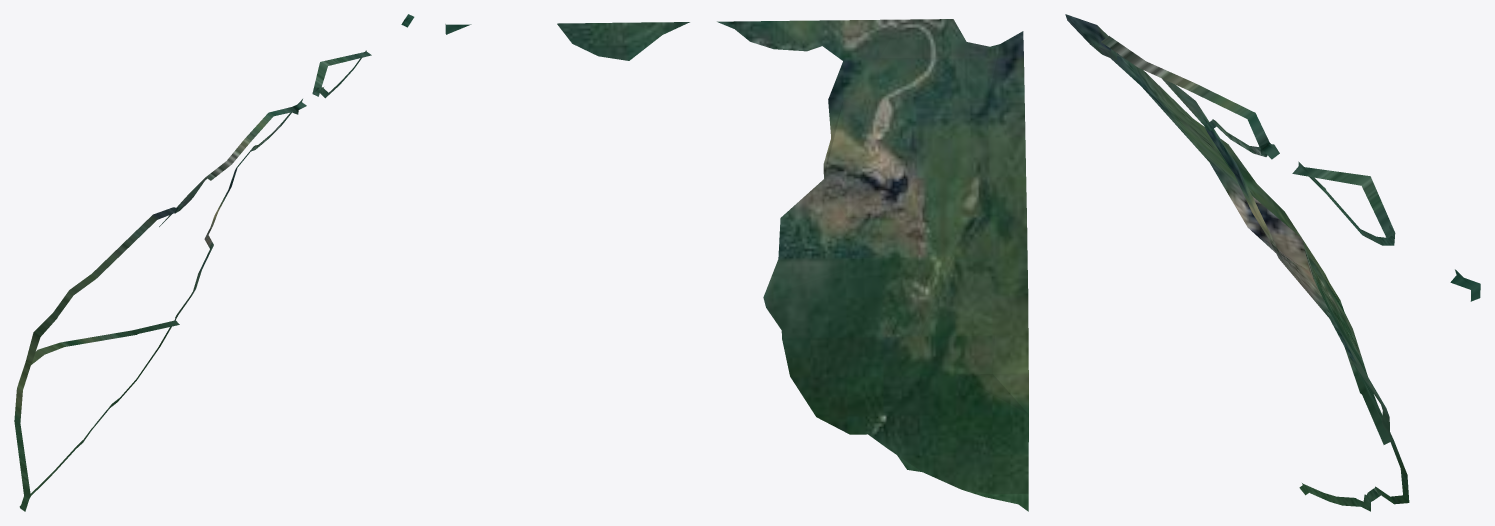
3 renders of one model, left to right at view 1: azimuth 30°, elevation 25°; view 2: azimuth 150°, elevation 25°; view 3: azimuth 270°, elevation 25°, orthographic. The views are drawn at different scales.
Size of the model in its own units: 2340 by 1771 by 1166.
1 material, 1 textured.
